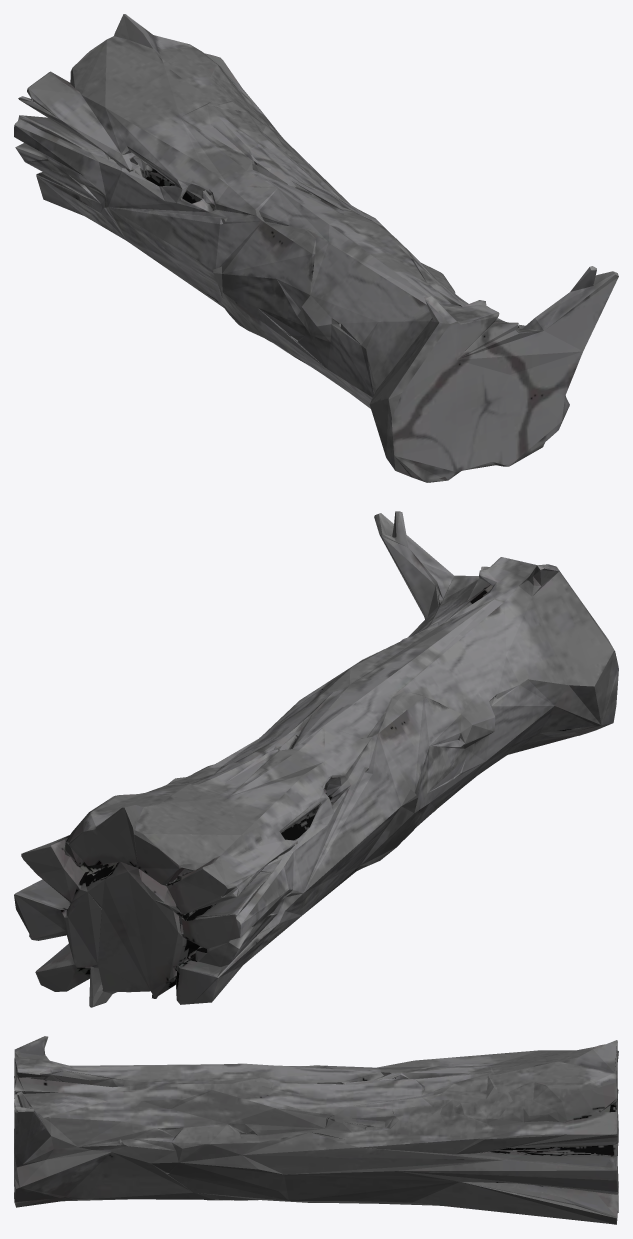
File: bog_driftwood_01.glb
The picture shows the model from 3 angles, top to bottom: view 1: azimuth 30°, elevation 25°; view 2: azimuth 150°, elevation 25°; view 3: azimuth 270°, elevation 25°; orthographic projection. The views are drawn at different scales.
Visible parts, largest first — view 1: geometry_0; view 2: geometry_0; view 3: geometry_0.
Boxes of the visible parts, x1,y1,x2,y2 form: geometry_0: [14, 14, 618, 482]; geometry_0: [14, 511, 618, 1007]; geometry_0: [14, 1036, 618, 1224].
Size of the model in its own units: 0.3744 by 0.299 by 0.9985.
1 material, 1 textured.
